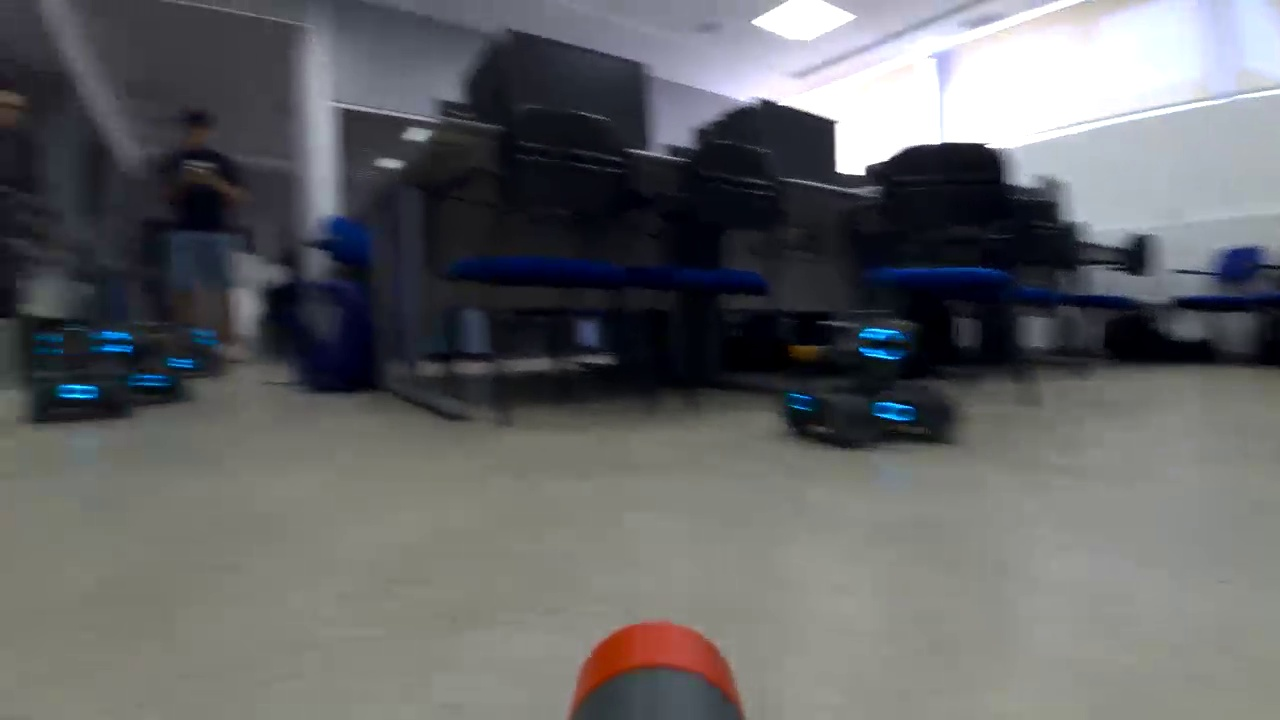robot: (775, 300, 959, 449), (27, 314, 140, 428), (108, 316, 194, 406), (162, 310, 227, 385)
